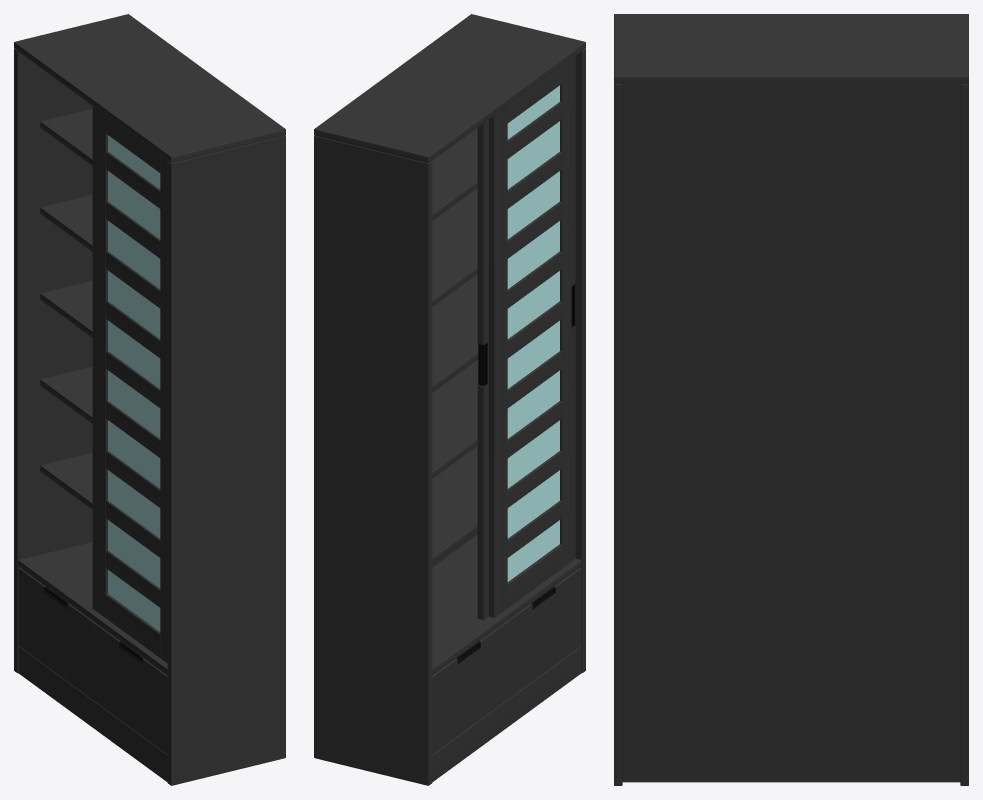
The model's file is SM_Bookshelf_01_Open.fbx.
The picture shows the model from 3 angles, left to right: view 1: azimuth 30°, elevation 25°; view 2: azimuth 150°, elevation 25°; view 3: azimuth 270°, elevation 25°; orthographic projection. The views are drawn at different scales.
Visible parts, largest first — view 1: SM_Bookshelf_01_Open_LOD0; view 2: SM_Bookshelf_01_Open_LOD0; view 3: SM_Bookshelf_01_Open_LOD0.
Boxes of the visible parts, x1,y1,x2,y2 form: SM_Bookshelf_01_Open_LOD0: (14, 14, 285, 785); SM_Bookshelf_01_Open_LOD0: (314, 14, 585, 785); SM_Bookshelf_01_Open_LOD0: (614, 14, 968, 785).
Size of the model in its own units: 35 by 83 by 183.
